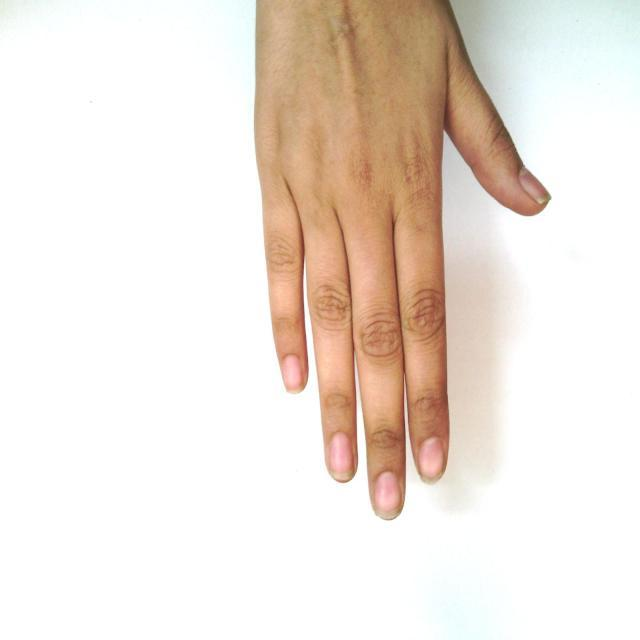Fingernail: (375, 472, 400, 518), (329, 434, 353, 481), (418, 438, 443, 482), (520, 169, 551, 202), (283, 356, 302, 392)
